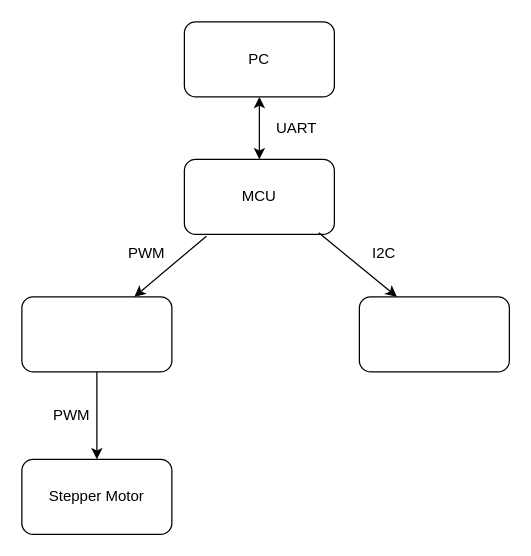
Image size: 531x556. Some labels were removed from this diagram. Here are the shapes that lost their labels. From the top down, the centre of each, then its label:
pixel 96 334: Stepper Motor Driver
pixel 433 334: TOF sensor
